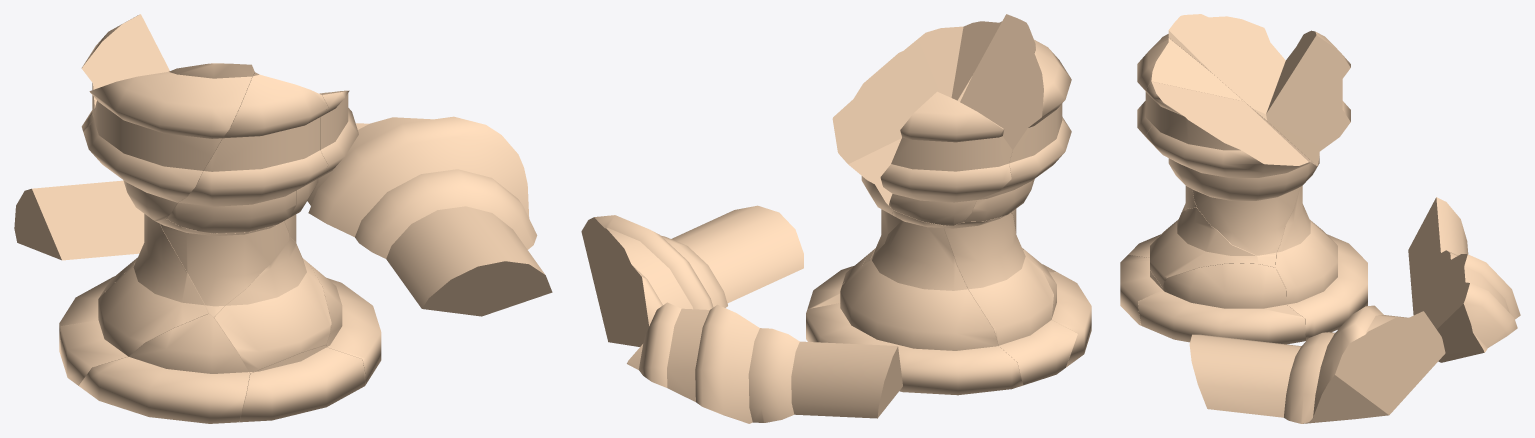
Rendered from Pillar_Broken_B.fbx.
The picture shows the model from 3 angles, left to right: view 1: azimuth 30°, elevation 25°; view 2: azimuth 150°, elevation 25°; view 3: azimuth 270°, elevation 25°; orthographic projection. The views are drawn at different scales.
Visible parts, largest first — view 1: Pillar_Broken_B; view 2: Pillar_Broken_B; view 3: Pillar_Broken_B.
Boxes of the visible parts, box(x1,y1,x2,y2) form: Pillar_Broken_B: box(14, 14, 552, 423); Pillar_Broken_B: box(581, 14, 1091, 423); Pillar_Broken_B: box(1120, 14, 1520, 423).
Bounding box in the file's own units: 466 × 311 × 418.
